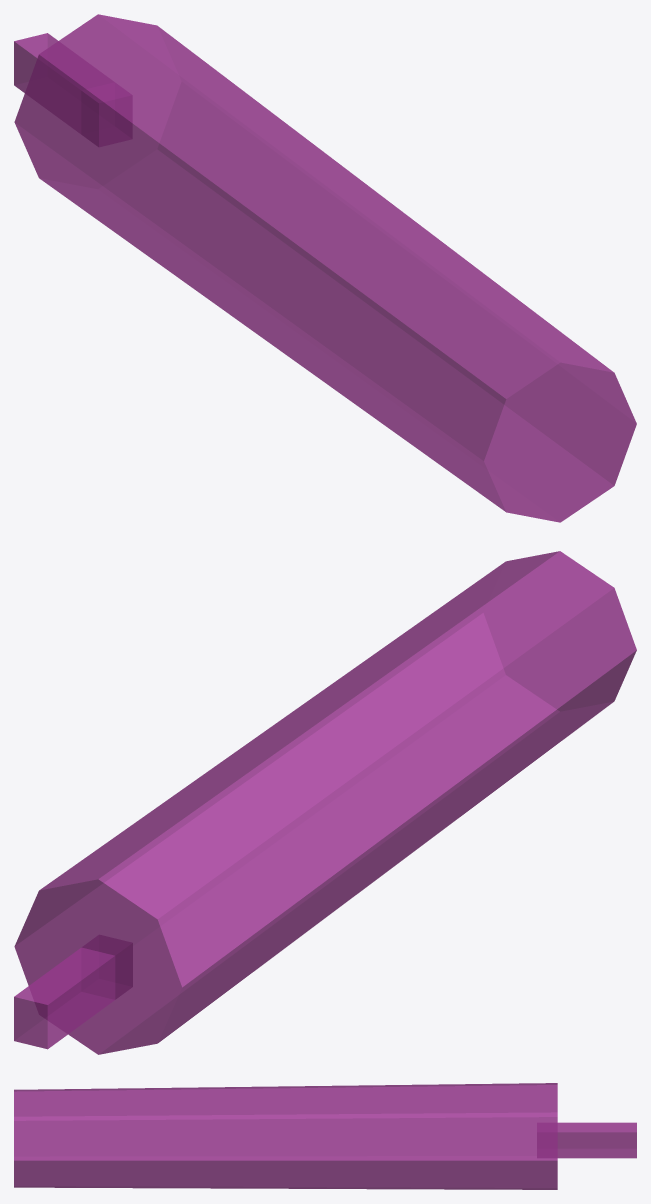
The model's file is SM_Wep_Cannon_01_Barrel_01_Collision.fbx.
3 views of the same model, one above another, from view 1: azimuth 30°, elevation 25°; view 2: azimuth 150°, elevation 25°; view 3: azimuth 270°, elevation 25° (orthographic). The views are drawn at different scales.
Parts seen in each view (by area): view 1: SM_Wep_Cannon_01_Barrel_01_Collision; view 2: SM_Wep_Cannon_01_Barrel_01_Collision; view 3: SM_Wep_Cannon_01_Barrel_01_Collision.
Boxes of the visible parts, bbox=[...] form: SM_Wep_Cannon_01_Barrel_01_Collision: bbox=[14, 14, 636, 522]; SM_Wep_Cannon_01_Barrel_01_Collision: bbox=[14, 551, 636, 1054]; SM_Wep_Cannon_01_Barrel_01_Collision: bbox=[14, 1083, 636, 1189].
Bounding box in the file's own units: 51.15 × 51.15 × 280.
